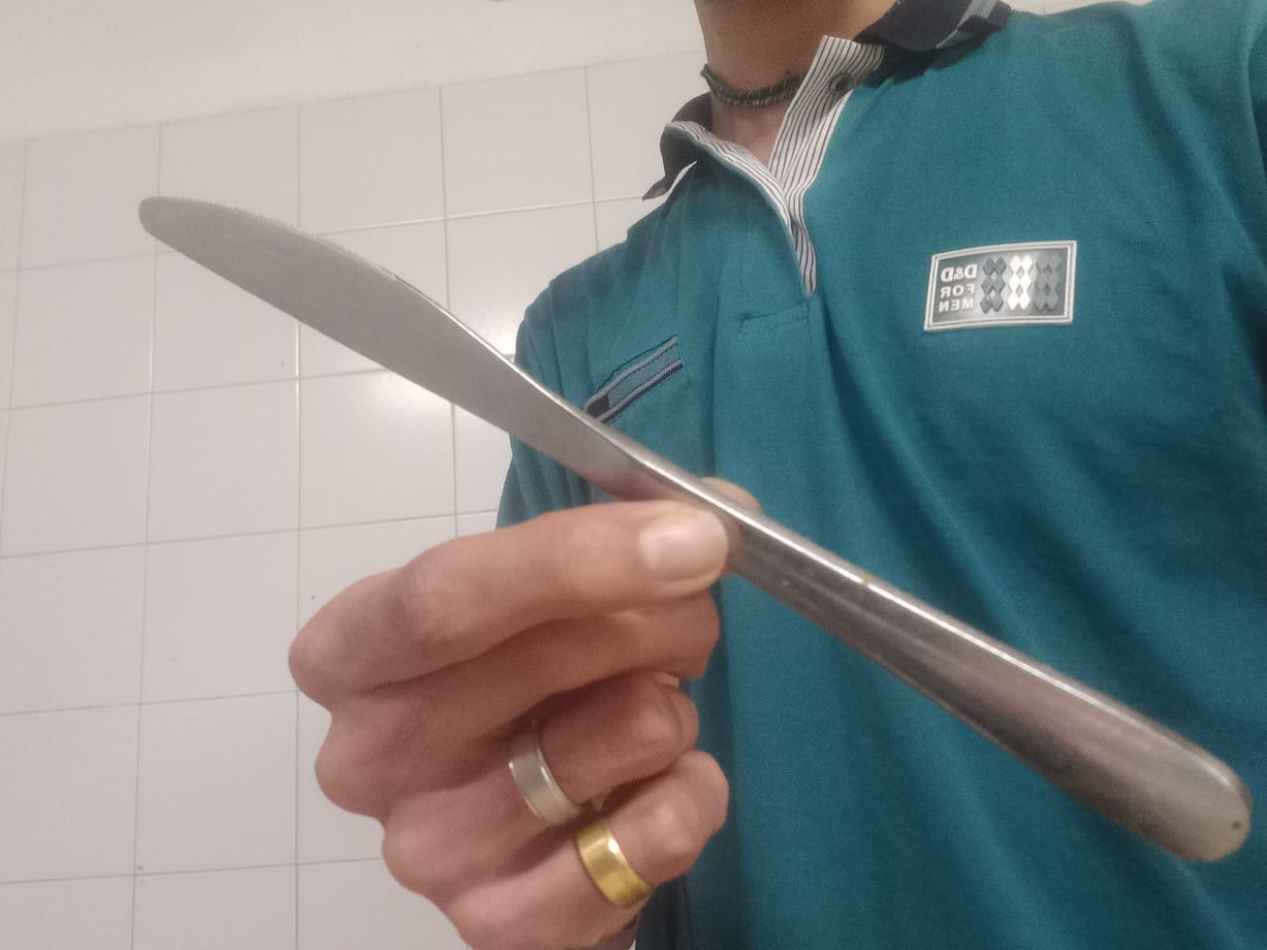Metal: (140, 195, 1246, 863)
